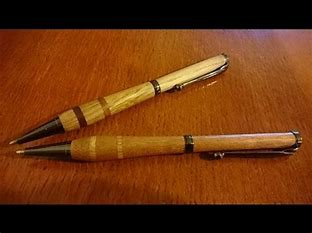pen: (50, 49, 231, 128), (13, 131, 306, 158)
